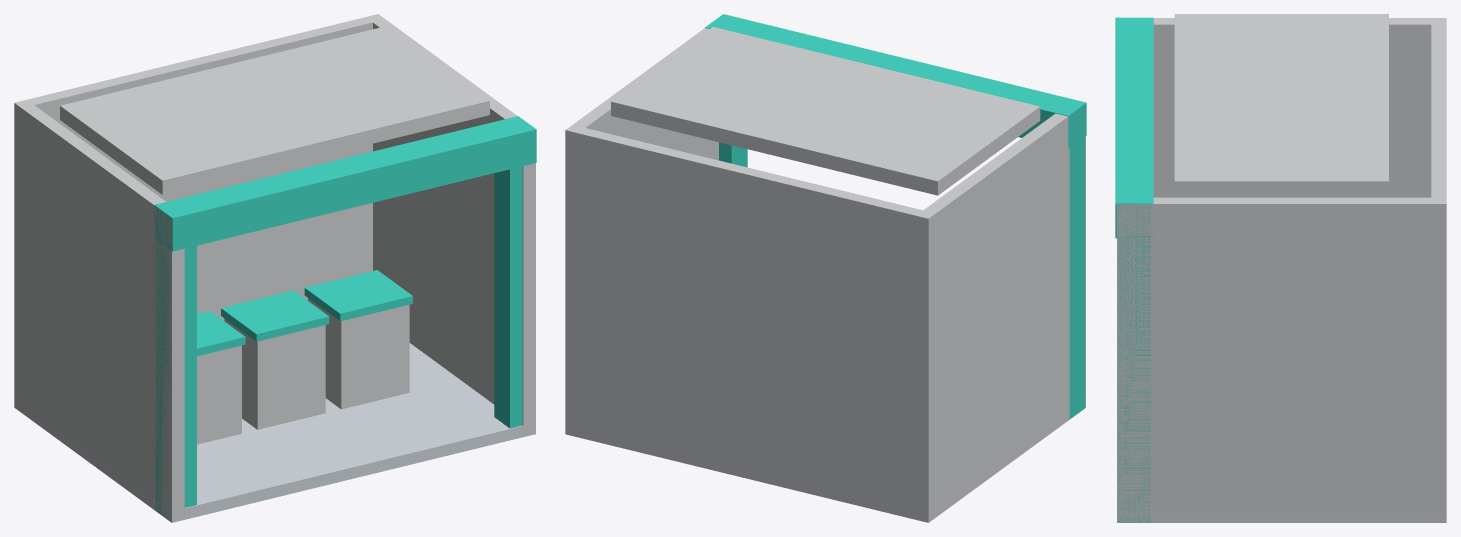
3 views of the same model, side by side, from view 1: azimuth 30°, elevation 25°; view 2: azimuth 150°, elevation 25°; view 3: azimuth 270°, elevation 25° (orthographic). The views are drawn at different scales.
Parts seen in each view (by area): view 1: Exhibition Booth Concept; view 2: Exhibition Booth Concept; view 3: Exhibition Booth Concept.
Part boxes in pixels (box(x1,y1,x2,y2)): Exhibition Booth Concept: box(14, 14, 536, 522); Exhibition Booth Concept: box(565, 14, 1086, 522); Exhibition Booth Concept: box(1115, 14, 1446, 522).
Bounding box in the file's own units: 4 × 3.34 × 3.01.
